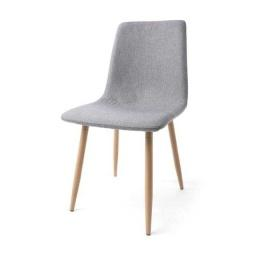Chair: (63, 19, 190, 236)
